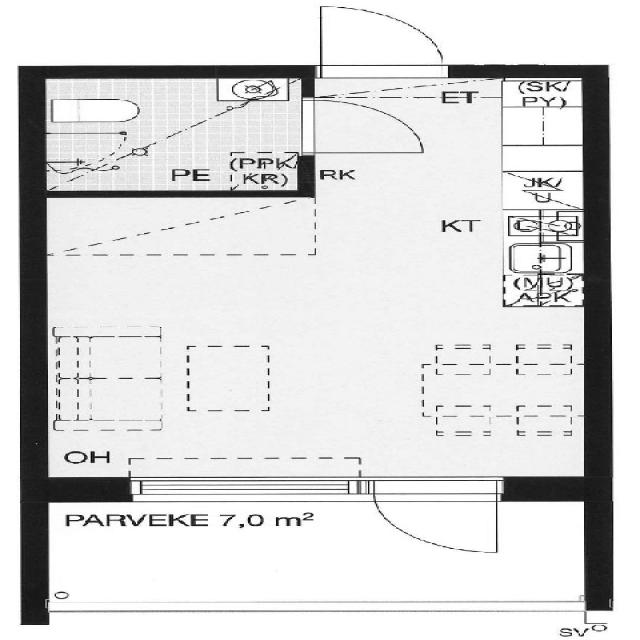door: (297, 0, 473, 90), (360, 475, 516, 566), (289, 94, 436, 172)
window: (78, 471, 382, 508)
zone: (40, 192, 605, 481), (36, 78, 320, 188)
